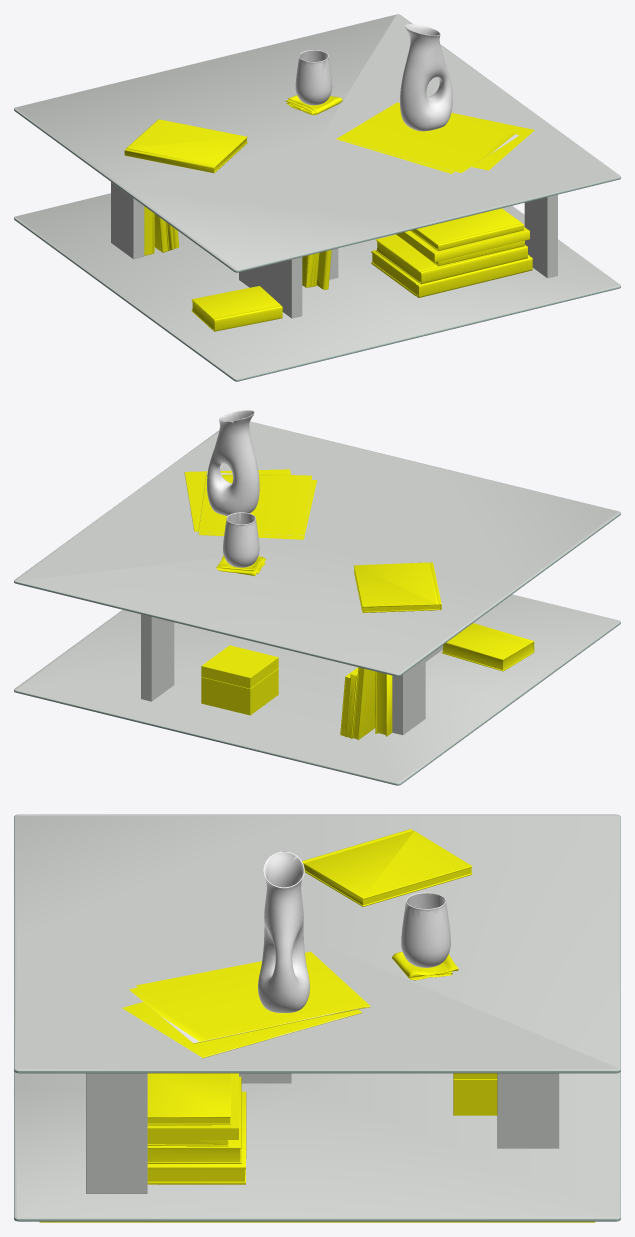
File: designconnected-alleluia-coffee-table-8678.optimized.glb
3 renders of one model, top to bottom at view 1: azimuth 30°, elevation 25°; view 2: azimuth 150°, elevation 25°; view 3: azimuth 270°, elevation 25°, orthographic. The views are drawn at different scales.
Parts seen in each view (by area): view 1: Ligne_Roset_Alleluia_118_accessories_mat1_01; view 2: Ligne_Roset_Alleluia_118_accessories_mat1_01; view 3: Ligne_Roset_Alleluia_118_accessories_mat1_01.
Boxes of the visible parts, x1,y1,x2,y2 form: Ligne_Roset_Alleluia_118_accessories_mat1_01: (14,14,620,381); Ligne_Roset_Alleluia_118_accessories_mat1_01: (14,410,620,785); Ligne_Roset_Alleluia_118_accessories_mat1_01: (14,814,620,1222).
Bounding box in the file's own units: 1.18 × 0.6546 × 1.18.
2 materials, 1 textured.
